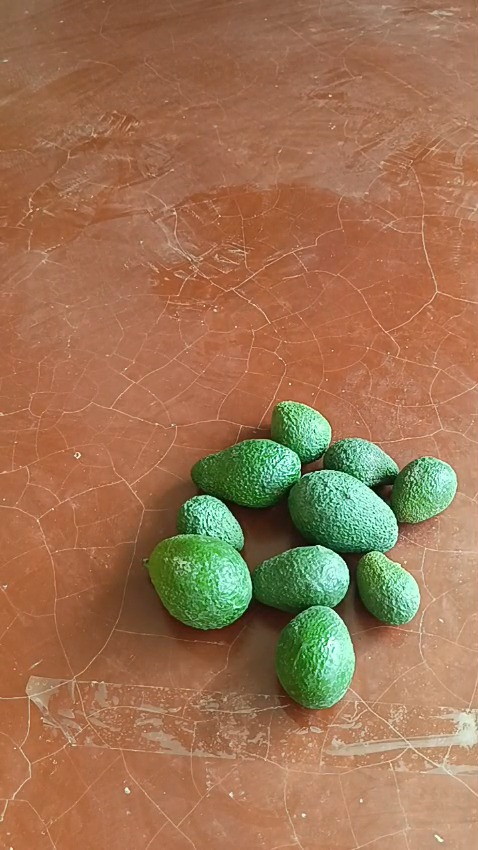Primera: (146, 534, 252, 629), (287, 470, 398, 554), (192, 440, 302, 508)
Segunda: (274, 605, 356, 707)
Tercera: (251, 545, 349, 613), (388, 454, 457, 524), (355, 549, 419, 624), (321, 437, 399, 488), (270, 400, 332, 464), (177, 495, 245, 550)
